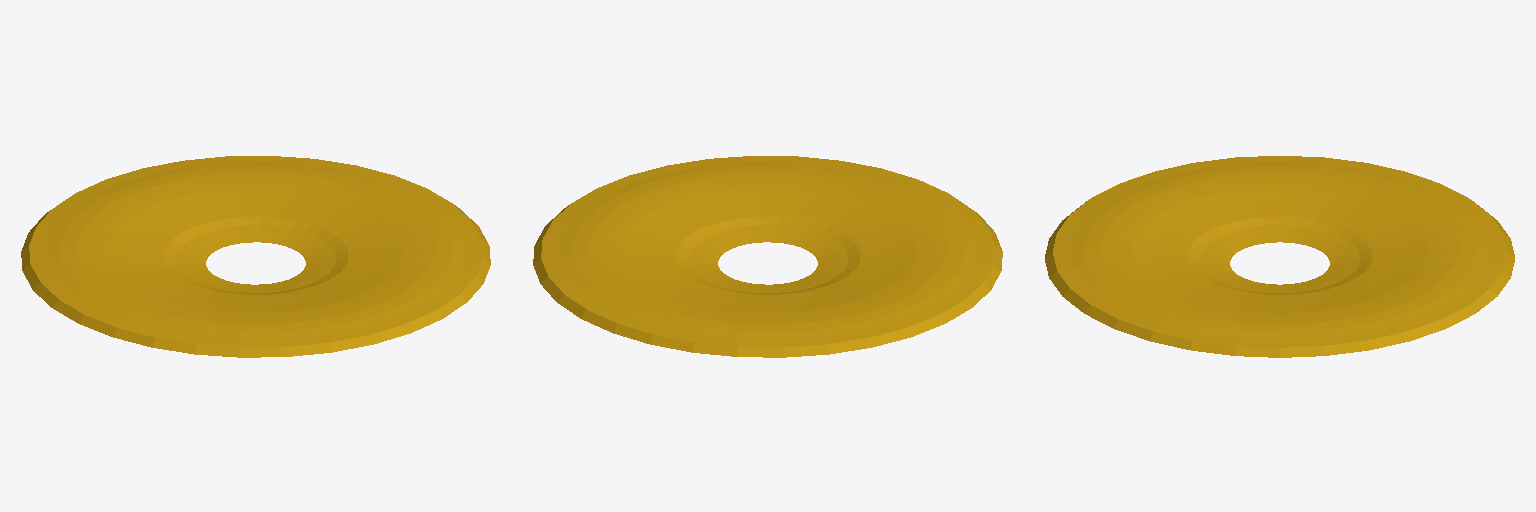
File: meja3-2.obj
3 renders of one model, left to right at view 1: azimuth 30°, elevation 25°; view 2: azimuth 150°, elevation 25°; view 3: azimuth 270°, elevation 25°, orthographic.
Visible parts, largest first — view 1: Cube.001_Cube.366_Cube.001_Cube.004; view 2: Cube.001_Cube.366_Cube.001_Cube.004; view 3: Cube.001_Cube.366_Cube.001_Cube.004.
Part boxes in pixels (left/top/right/bottom): Cube.001_Cube.366_Cube.001_Cube.004: left=21, top=156, right=490, bottom=357; Cube.001_Cube.366_Cube.001_Cube.004: left=533, top=156, right=1002, bottom=357; Cube.001_Cube.366_Cube.001_Cube.004: left=1045, top=156, right=1514, bottom=357.
Bounding box in the file's own units: 2.98 × 0.1046 × 2.98.